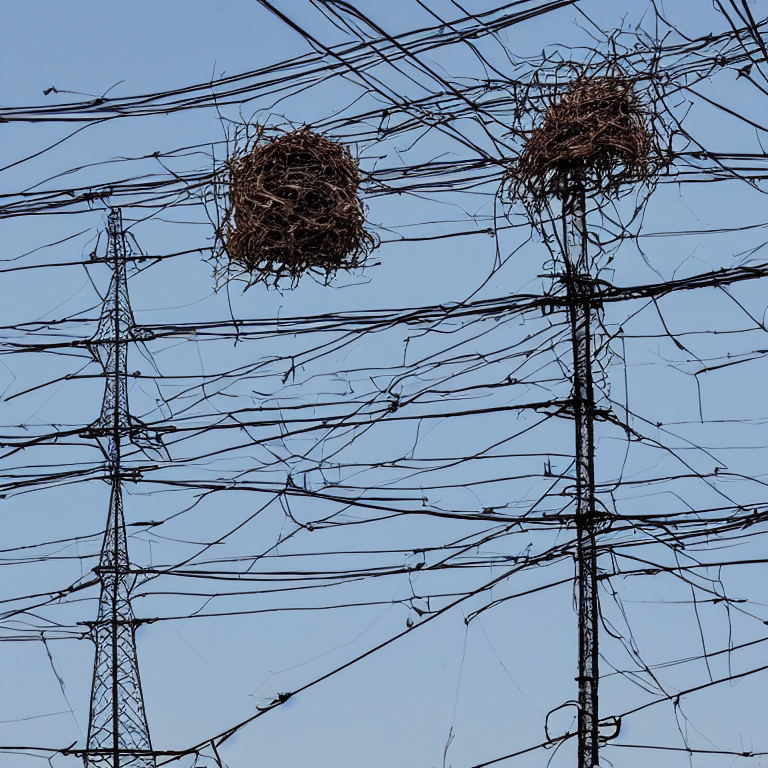nest: (234, 137, 360, 264), (528, 78, 651, 193)
